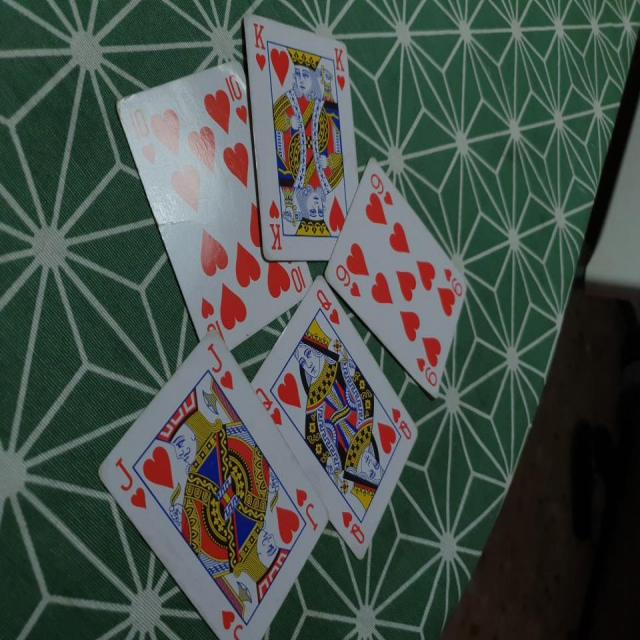10 Hearts: (109, 54, 316, 345)
9 Hearts: (316, 153, 468, 404)
J Hearts: (98, 330, 344, 640)
K Hearts: (238, 9, 360, 270)
Q Hearts: (261, 272, 420, 565)
